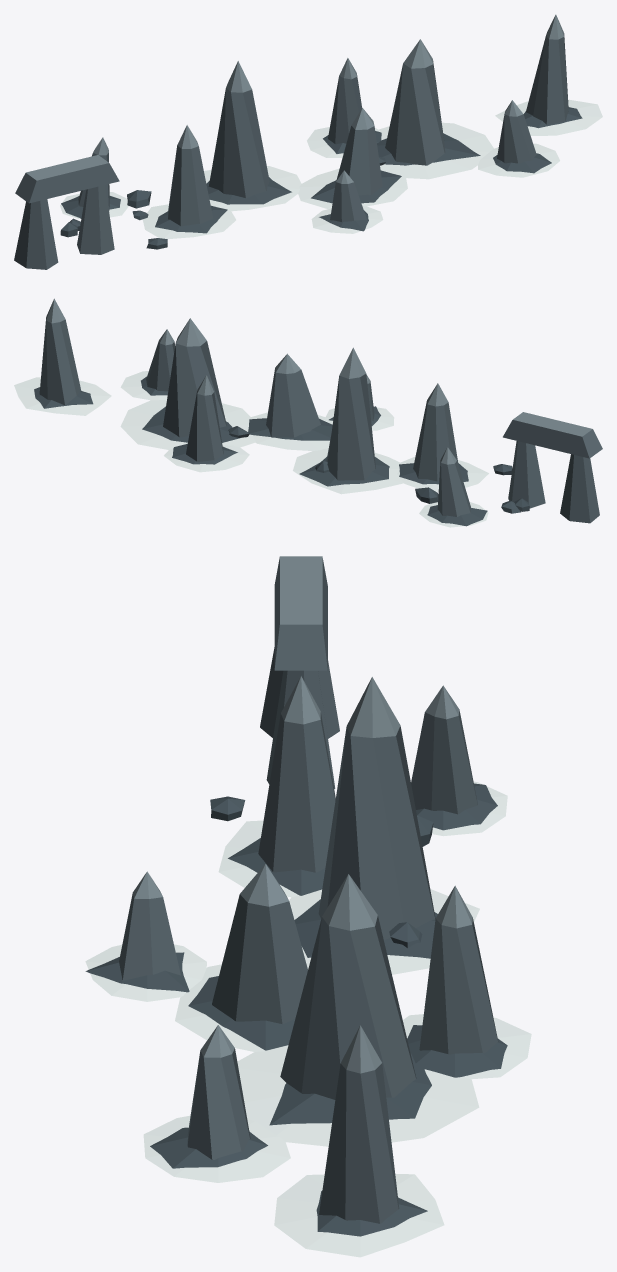
Rendered from W2_Mid_SeaStacks.fbx.
3 renders of one model, top to bottom at view 1: azimuth 30°, elevation 25°; view 2: azimuth 150°, elevation 25°; view 3: azimuth 270°, elevation 25°, orthographic. The views are drawn at different scales.
Visible parts, largest first — view 1: W2_Mid_SeaStacks; view 2: W2_Mid_SeaStacks; view 3: W2_Mid_SeaStacks.
Part boxes in pixels (x1=…): W2_Mid_SeaStacks: x1=14, y1=14, x2=602, y2=269; W2_Mid_SeaStacks: x1=14, y1=298, x2=602, y2=527; W2_Mid_SeaStacks: x1=85, y1=556, x2=531, y2=1257.
Bounding box in the file's own units: 222 × 48 × 75.39.
